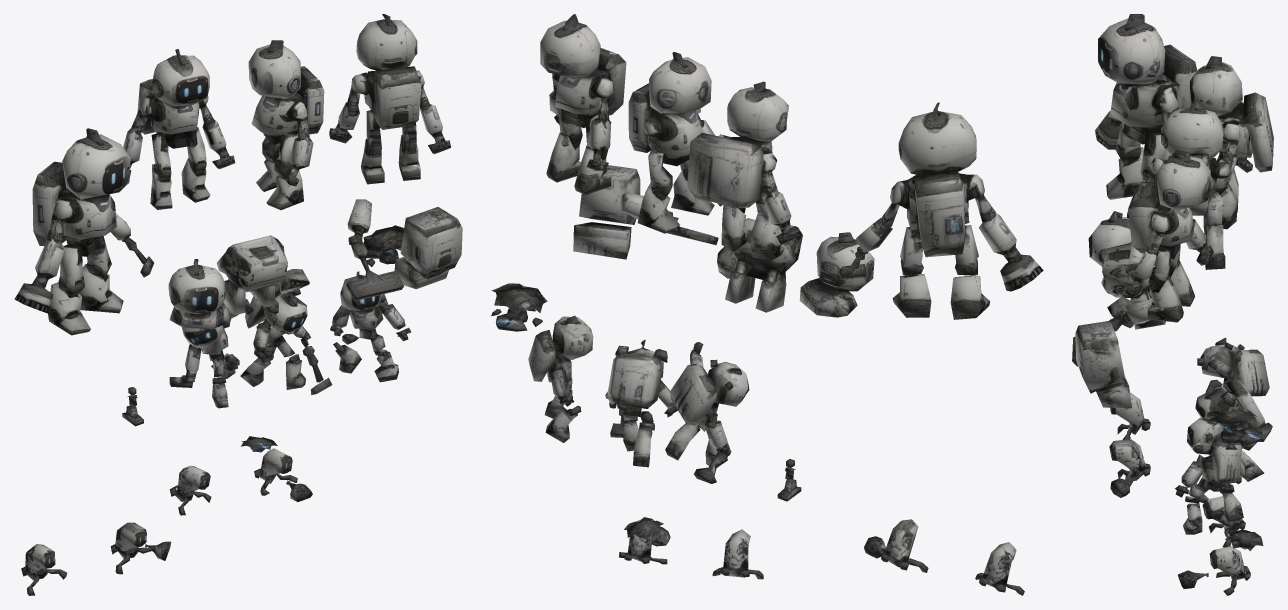
3 renders of one model, left to right at view 1: azimuth 30°, elevation 25°; view 2: azimuth 150°, elevation 25°; view 3: azimuth 270°, elevation 25°, orthographic. The views are drawn at different scales.
Parts seen in each view (by area): view 1: tripo_node_7f58db64-ed34-4b08-9de1-3fb52c08fd5e; view 2: tripo_node_7f58db64-ed34-4b08-9de1-3fb52c08fd5e; view 3: tripo_node_7f58db64-ed34-4b08-9de1-3fb52c08fd5e.
Boxes of the visible parts, bbox=[...] form: tripo_node_7f58db64-ed34-4b08-9de1-3fb52c08fd5e: bbox=[14, 14, 462, 595]; tripo_node_7f58db64-ed34-4b08-9de1-3fb52c08fd5e: bbox=[491, 14, 1043, 595]; tripo_node_7f58db64-ed34-4b08-9de1-3fb52c08fd5e: bbox=[1072, 14, 1273, 595].
Size of the model in its own units: 99.8 by 99.8 by 38.09.
1 material, 1 textured.
